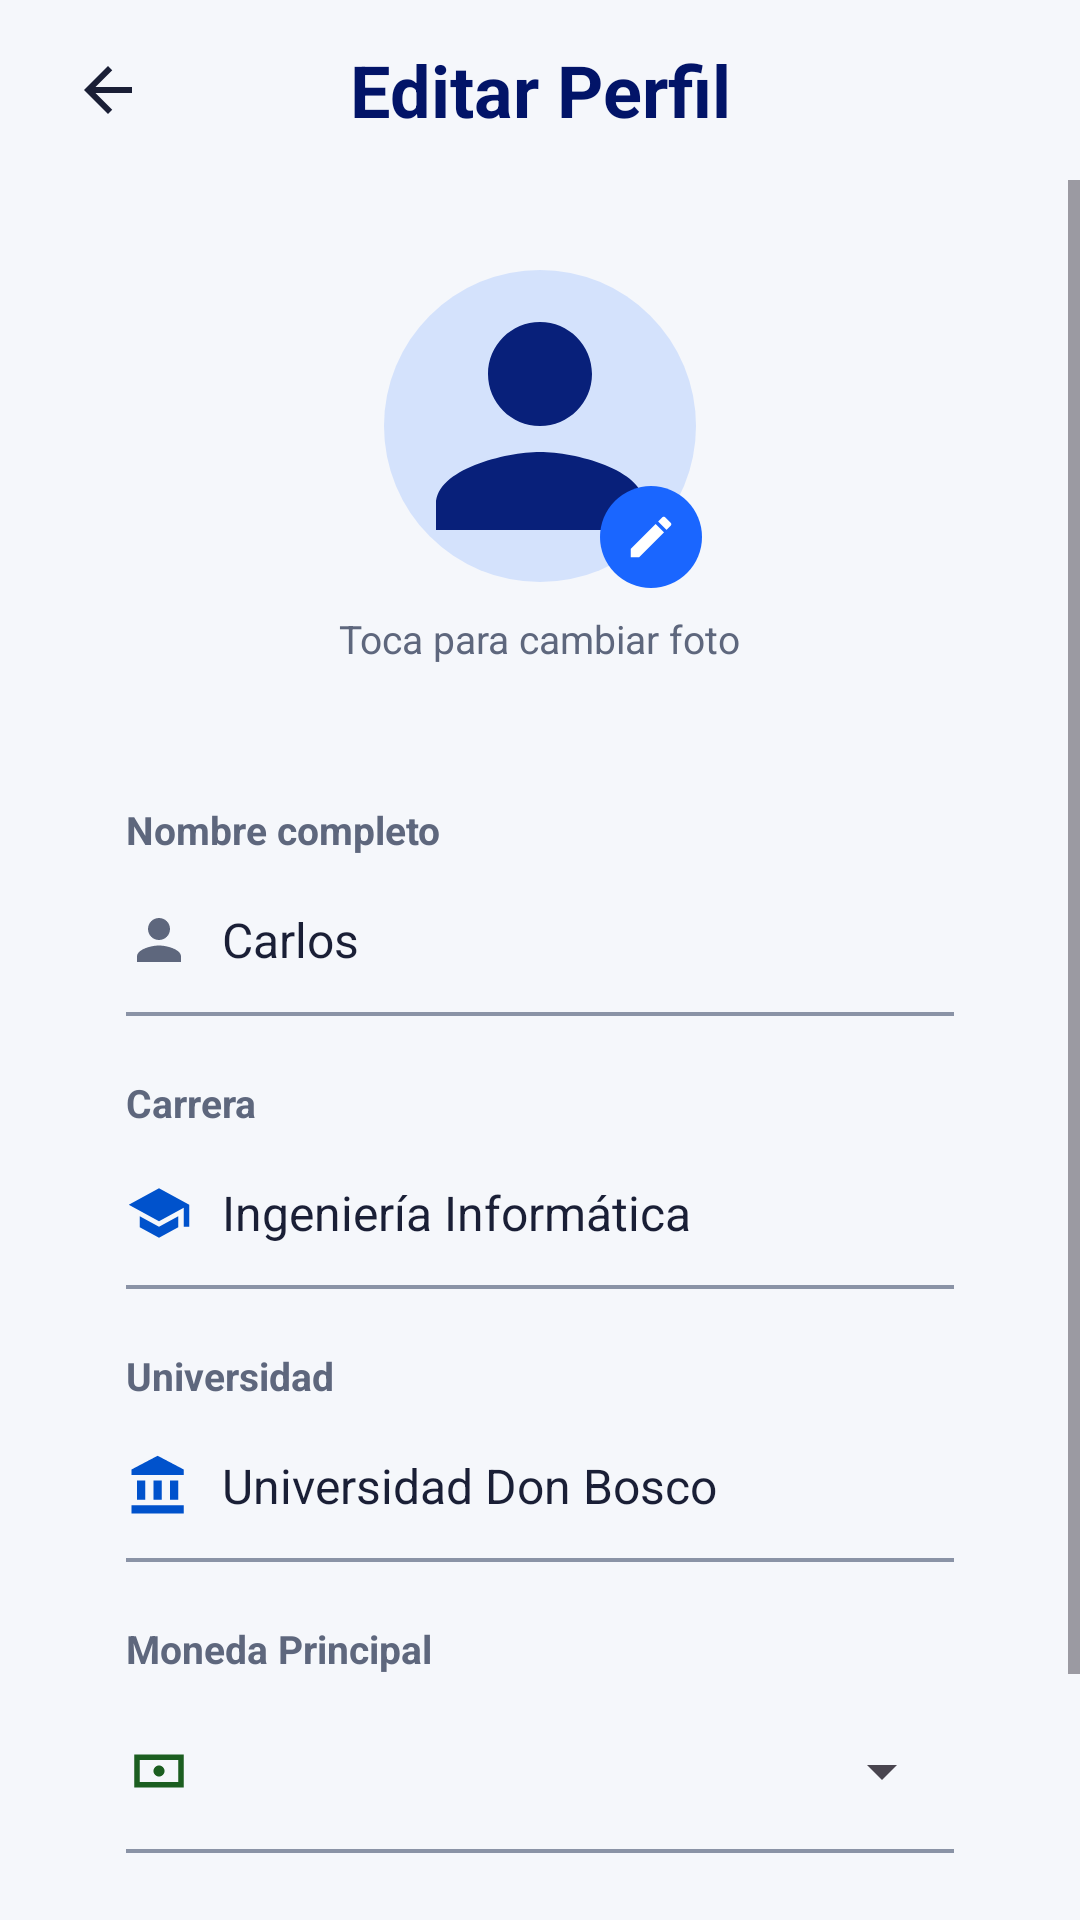

Point at icon controls on the screen. Image size 1080×1920, points as (x,y).
arrow back: (108,90)
currency: (159,1771)
edit: (651,537)
person: (159,940)
school: (159,1213)
university: (157,1485)
